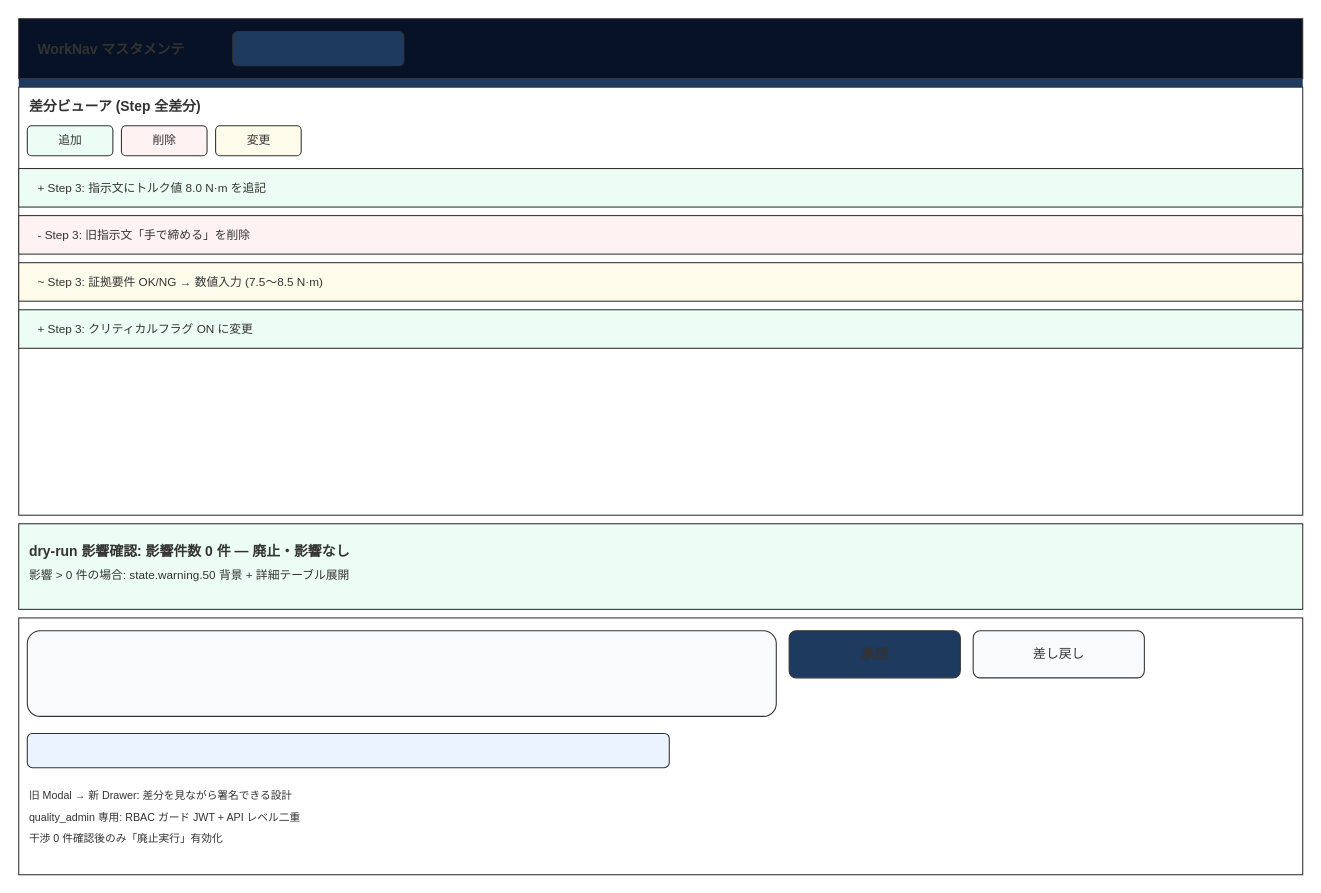
Some shapes in this 1321 by 893 pixel diagram are drawn without their labels. Each missing label, with the centre of its shape:
"quality_admin 承認レビュー" goes at (318,48).
"審査コメントを入力..." goes at (401,673).
"承認クリック → 右ドロワー (480px) で ElectronicSignPad を表示" goes at (347,750).
